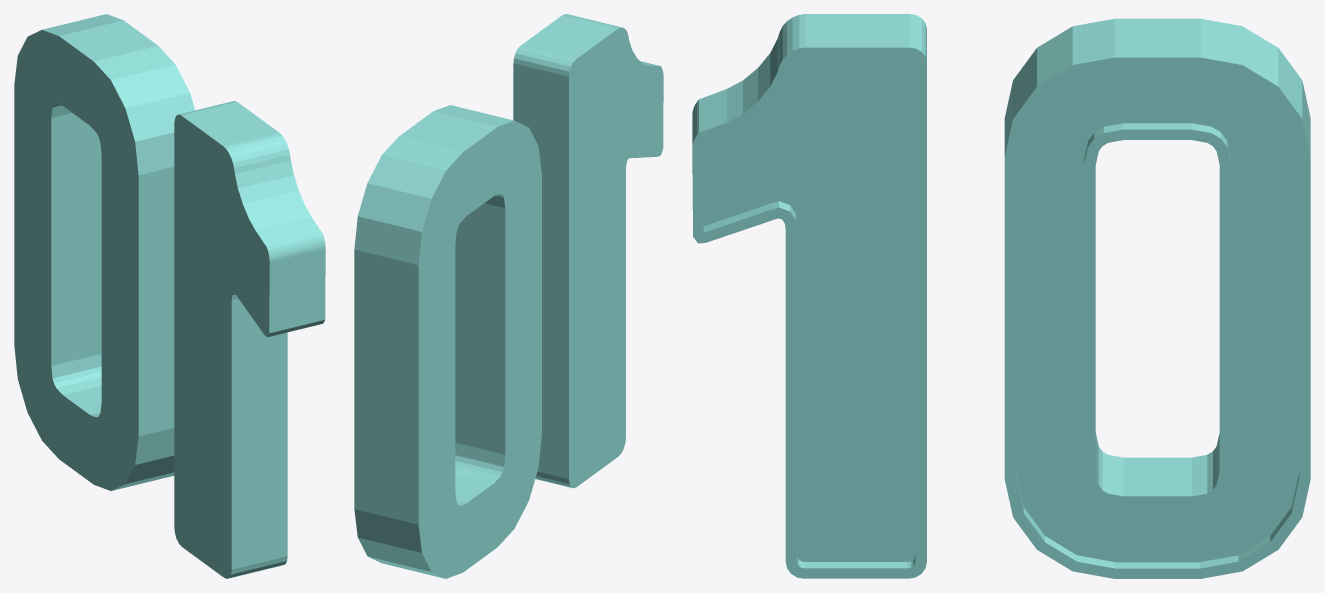
Rendered from bonus_10_wh1.fbx.
3 views of the same model, side by side, from view 1: azimuth 30°, elevation 25°; view 2: azimuth 150°, elevation 25°; view 3: azimuth 270°, elevation 25° (orthographic). The views are drawn at different scales.
Parts seen in each view (by area): view 1: bonus_10; view 2: bonus_10; view 3: bonus_10.
Part boxes in pixels (box(x1,y1,x2,y2)): bonus_10: box(14, 14, 325, 578); bonus_10: box(354, 14, 663, 578); bonus_10: box(692, 14, 1310, 578).
Size of the model in its own units: 19.21 by 122 by 129.
